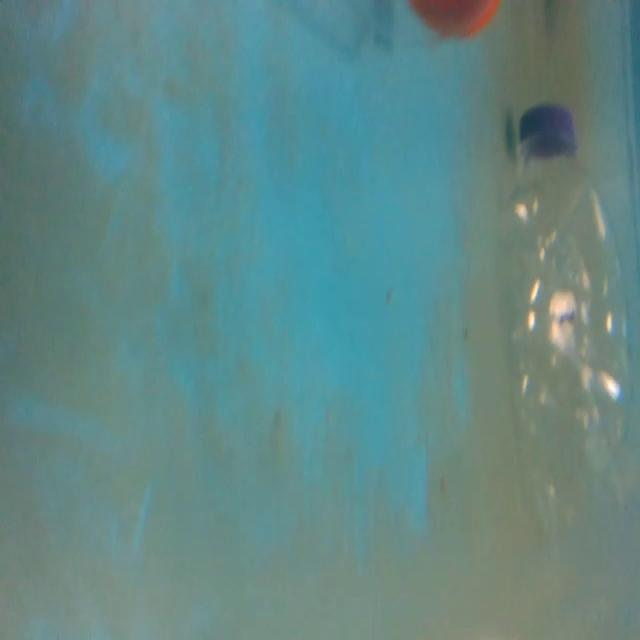plastic bottle: (500, 95, 640, 553)
